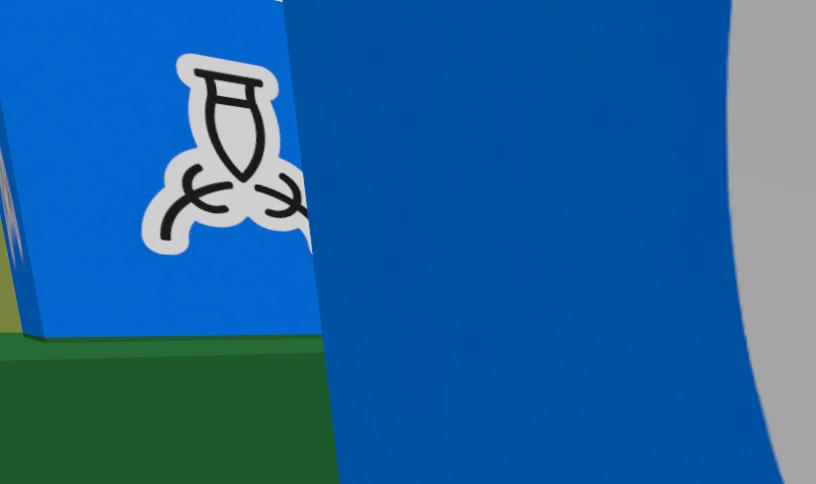KFS_REAL: (0, 0, 320, 338), (141, 54, 309, 255)
